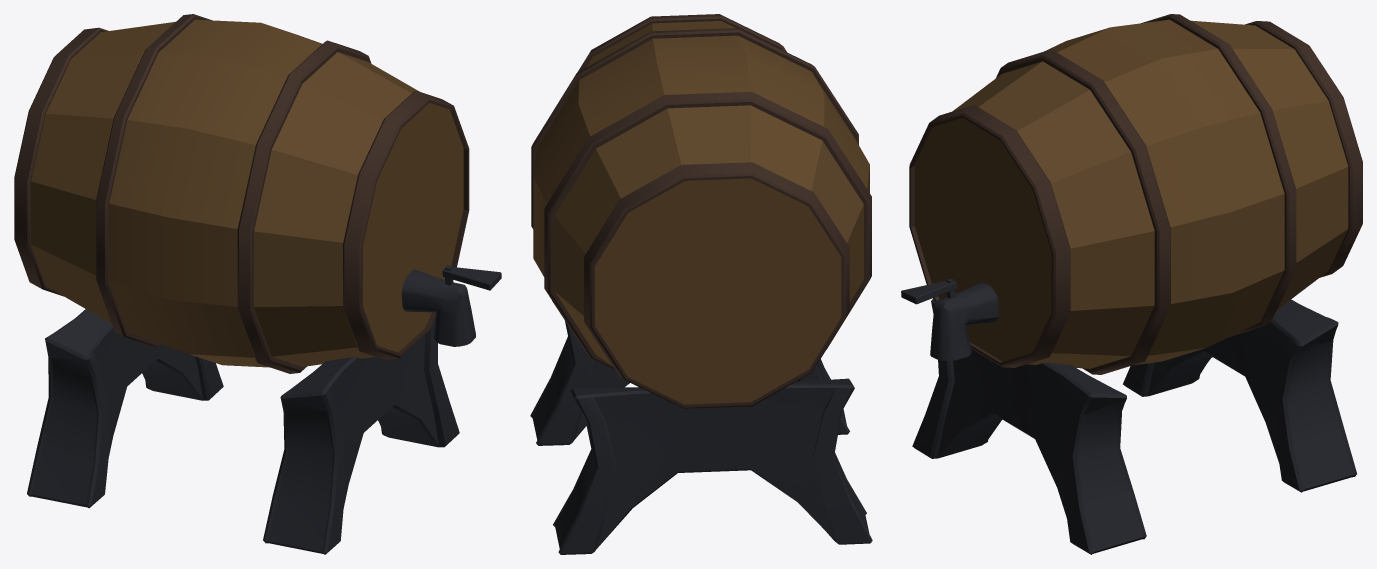
Rendered from BeerBarrel.fbx.
3 renders of one model, left to right at view 1: azimuth 30°, elevation 25°; view 2: azimuth 150°, elevation 25°; view 3: azimuth 270°, elevation 25°, orthographic.
Parts seen in each view (by area): view 1: pasted__pCube2, pasted__pCube3, pasted__pCube4; view 2: pasted__pCube2, pasted__pCube4, pasted__pCube3; view 3: pasted__pCube2, pasted__pCube3, pasted__pCube4.
Boxes of the visible parts, bbox=[...] form: pasted__pCube2: bbox=[14, 14, 501, 373]; pasted__pCube3: bbox=[263, 319, 459, 554]; pasted__pCube4: bbox=[27, 309, 223, 508]; pasted__pCube2: bbox=[531, 14, 871, 408]; pasted__pCube4: bbox=[553, 378, 872, 554]; pasted__pCube3: bbox=[530, 301, 849, 445]; pasted__pCube2: bbox=[901, 14, 1362, 374]; pasted__pCube3: bbox=[912, 299, 1146, 554]; pasted__pCube4: bbox=[1123, 299, 1356, 492].
Size of the model in its own units: 7.34 by 7.71 by 7.69.
